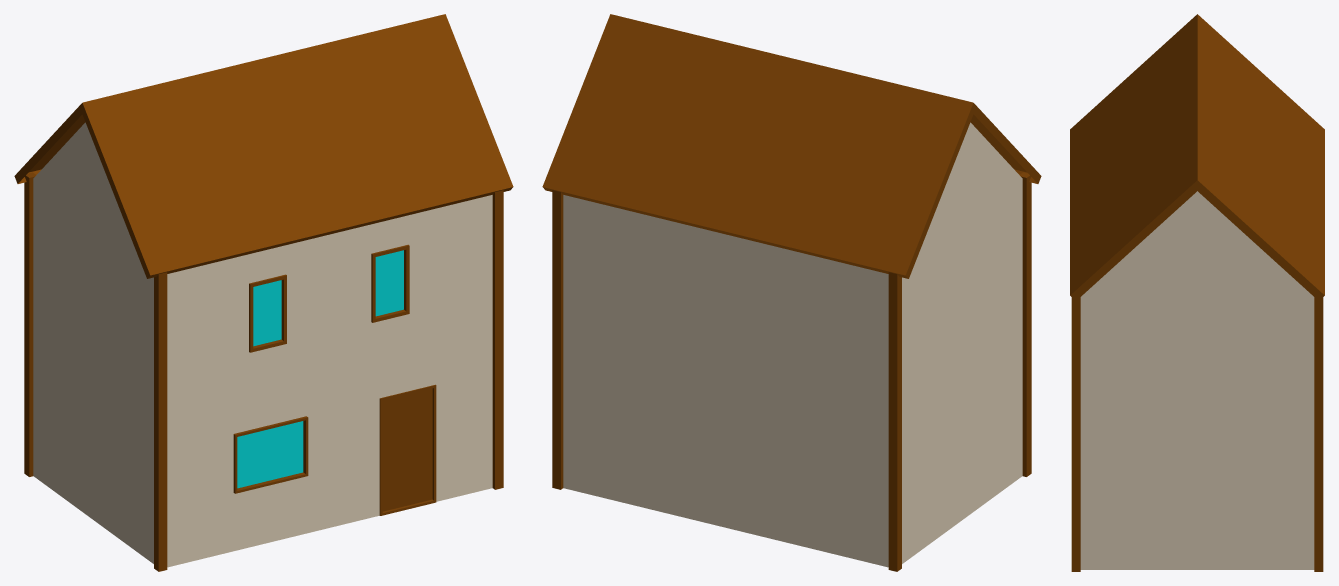
File: SM_House.fbx
3 views of the same model, side by side, from view 1: azimuth 30°, elevation 25°; view 2: azimuth 150°, elevation 25°; view 3: azimuth 270°, elevation 25° (orthographic). The views are drawn at different scales.
Parts seen in each view (by area): view 1: Plane.001, Plane; view 2: Plane.001, Plane; view 3: Plane.001, Plane.
Boxes of the visible parts, x1=… form: Plane.001: x1=14, y1=14, x2=513, y2=567; Plane: x1=24, y1=172, x2=503, y2=571; Plane.001: x1=542, y1=14, x2=1041, y2=567; Plane: x1=552, y1=172, x2=1031, y2=571; Plane.001: x1=1070, y1=14, x2=1324, y2=569; Plane: x1=1071, y1=297, x2=1323, y2=571.
Size of the model in its own units: 648 by 720 by 420.
